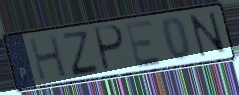0: (160, 14, 194, 63)
E: (123, 17, 165, 70)
H: (27, 33, 70, 83)
N: (187, 10, 230, 59)
P: (93, 23, 127, 74)
Z: (61, 30, 101, 78)
